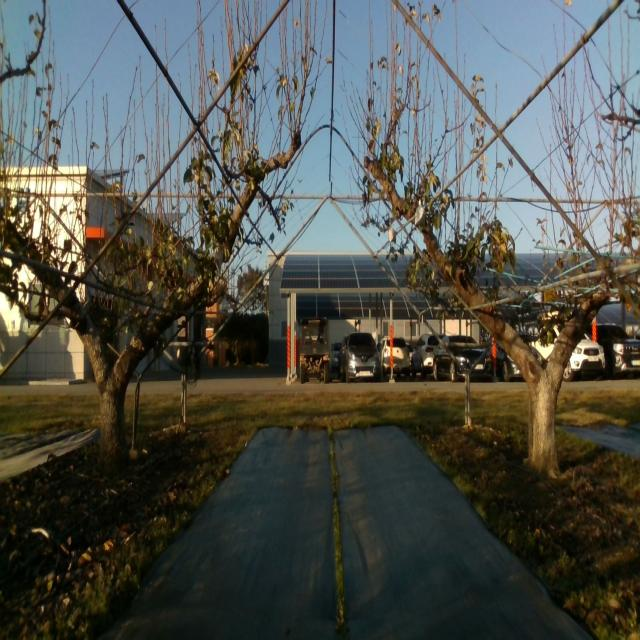pearbags: (414, 199, 426, 228), (212, 246, 223, 273)
